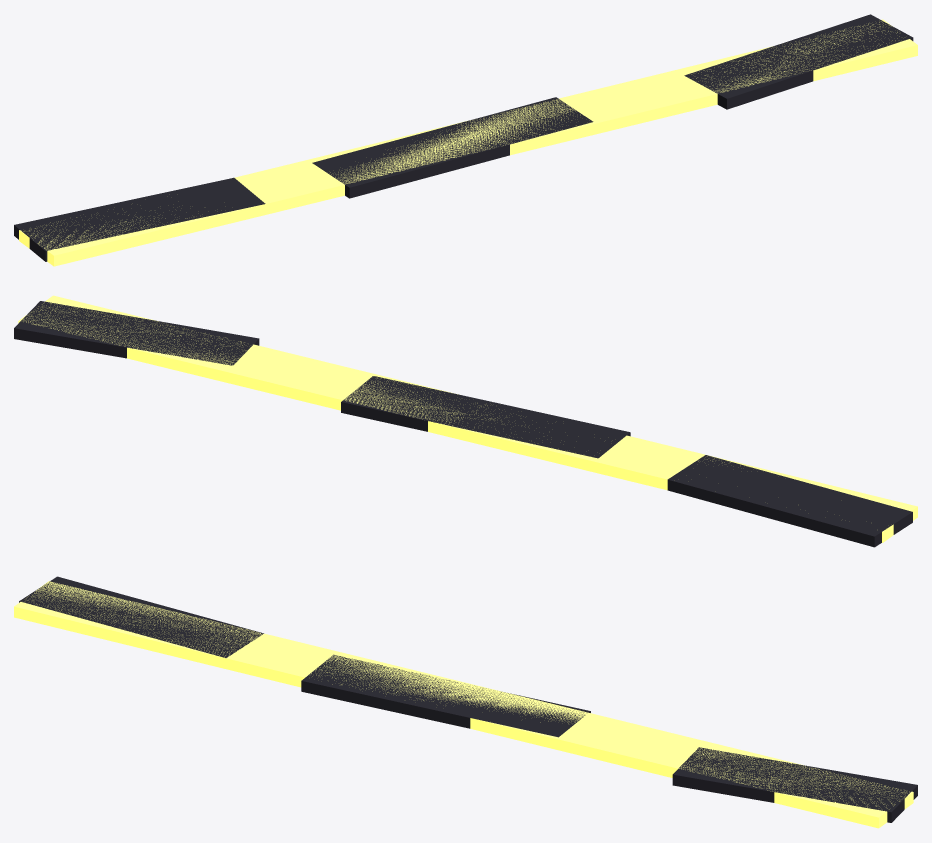
The model's file is signal_groove.glb.
The picture shows the model from 3 angles, top to bottom: view 1: azimuth 30°, elevation 25°; view 2: azimuth 150°, elevation 25°; view 3: azimuth 330°, elevation 25°; orthographic projection.
Parts seen in each view (by area): view 1: signal_groove_corrupted, signal_groove_restored; view 2: signal_groove_corrupted, signal_groove_restored; view 3: signal_groove_corrupted, signal_groove_restored.
Part boxes in pixels (x1,y1,x2,y2): signal_groove_corrupted: (14, 14, 913, 261); signal_groove_restored: (19, 19, 917, 266); signal_groove_corrupted: (14, 301, 912, 547); signal_groove_restored: (18, 295, 917, 542); signal_groove_corrupted: (19, 576, 917, 822); signal_groove_restored: (14, 581, 913, 828).
Size of the model in its own units: 1.01 by 0.012 by 0.1016.
